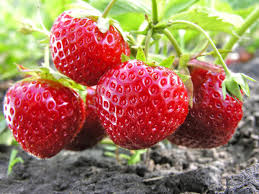ripe: (161, 47, 248, 154), (100, 54, 194, 151), (47, 6, 136, 90), (3, 77, 87, 163), (57, 85, 122, 156)
